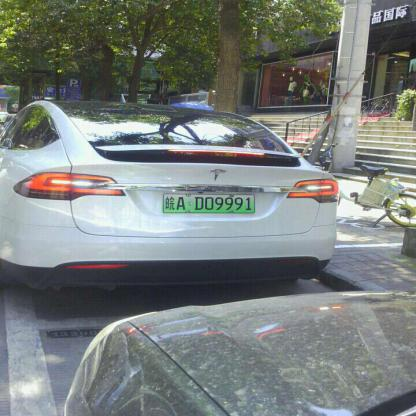lp: (163, 193, 254, 213)
